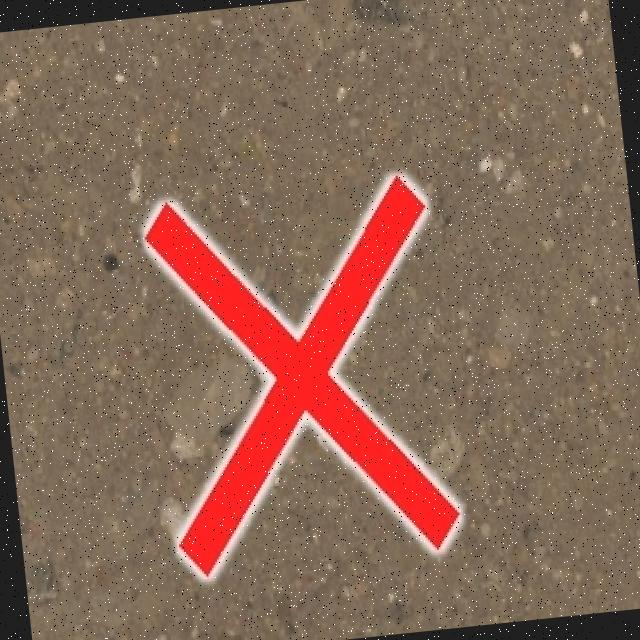x_marker: (142, 174, 462, 577)
